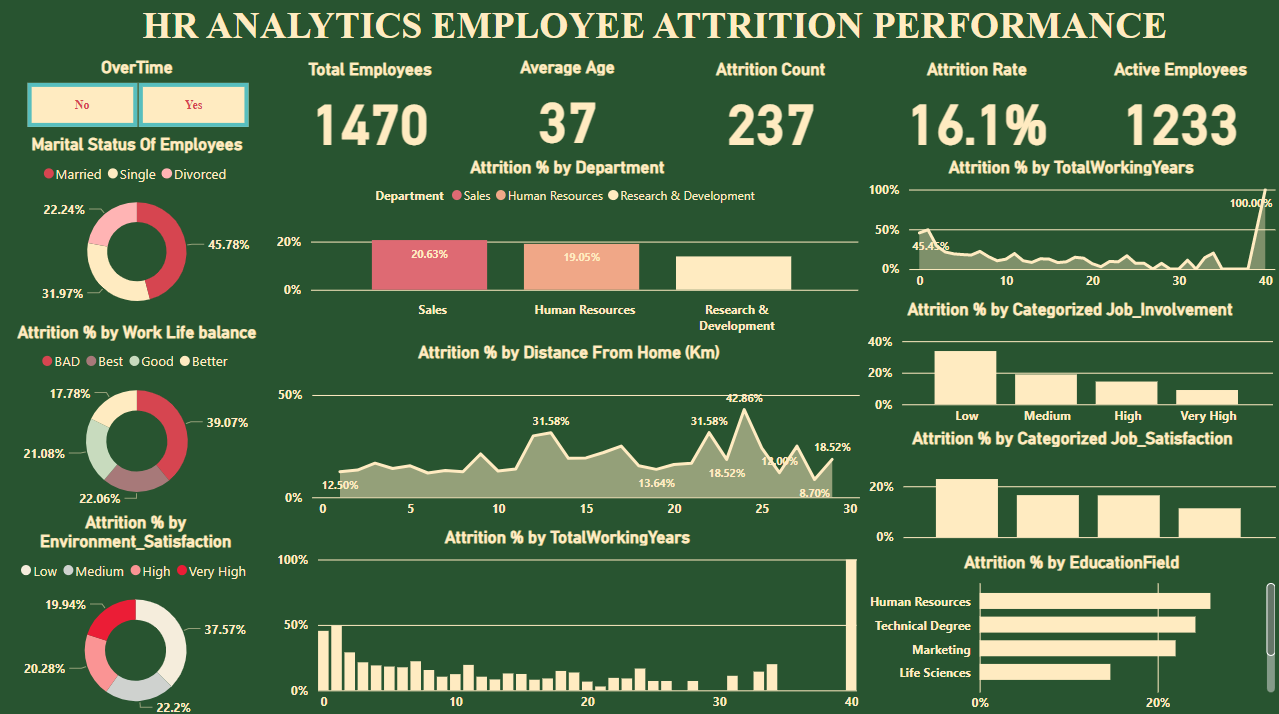

Layout of this report page (visuals, bound fields, positions):
{"tool":"powerbi","page":{"name":"Employee Attrition Dashboard","canvas":[1280,720],"ordinal":0},"visuals":[{"type":"card","title":"Total Employees","fields":{"Values":["Employee Data 2018 - 2019.Total Employees HR"]},"box":[271.2,60,197.5,98.8],"z":0},{"type":"card","title":"Average Age","fields":{"Values":["Avg(Employee Data 2018 - 2019.Age)"]},"box":[467.5,57.5,200,100],"z":1000},{"type":"card","title":"Attrition Rate","fields":{"Values":["Employee Data 2018 - 2019.Attrition %"]},"box":[872.5,60,208.8,97.5],"z":2000},{"type":"card","title":"Attrition Count","fields":{"Values":["Sum(Employee Data 2018 - 2019.Attrition Count)"]},"box":[667.5,60,206.2,97.5],"z":3000},{"type":"card","title":"Active Employees","fields":{"Values":["Employee Data 2018 - 2019.Measure"]},"box":[1081.2,60,198.8,97.5],"z":4000},{"type":"clusteredColumnChart","fields":{"Y":["Employee Data 2018 - 2019.Attrition %"],"Category":["Employee Data 2018 - 2019.TotalWorkingYears"]},"box":[271.4,527,592.2,194.2],"z":5000},{"type":"areaChart","fields":{"Category":["Employee Data 2018 - 2019.Distance From Home (Km)"],"Y":["Employee Data 2018 - 2019.Attrition %"]},"box":[272.6,342.5,592.2,185.7],"z":6000},{"type":"donutChart","title":"Attrition % by Work Life balance","fields":{"Category":["Employee Data 2018 - 2019.Categorized Work_Life_Balance"],"Y":["Employee Data 2018 - 2019.Attrition %"]},"box":[1.2,322,271.4,190.6],"z":7000},{"type":"stackedAreaChart","fields":{"Category":["Employee Data 2018 - 2019.TotalWorkingYears"],"Y":["Employee Data 2018 - 2019.Attrition %"]},"box":[862.5,157.5,417.5,142.5],"z":8000},{"type":"donutChart","title":"Marital Status Of Employees","fields":{"Category":["Employee Data 2018 - 2019.MaritalStatus"],"Y":["CountNonNull(Employee Data 2018 - 2019.MaritalStatus)"]},"box":[1.2,135.1,271.4,186.9],"z":9000},{"type":"donutChart","title":"Attrition % by Environment_Satisfaction","fields":{"Y":["Employee Data 2018 - 2019.Attrition %"],"Category":["Employee Data 2018 - 2019.Categorized Environment_Satisfaction"]},"box":[0,512.6,271.4,209.8],"z":10000},{"type":"columnChart","fields":{"Category":["Employee Data 2018 - 2019.Categorized Job_Satisfaction"],"Y":["Employee Data 2018 - 2019.Attrition %"]},"box":[863.5,429.3,417.3,123],"z":11000},{"type":"clusteredColumnChart","fields":{"Category":["Employee Data 2018 - 2019.Categorized Job_Involvement"],"Y":["Employee Data 2018 - 2019.Attrition %"]},"box":[862.5,300,415,135],"z":12000},{"type":"columnChart","title":"Attrition % by Department ","fields":{"Series":["Employee Data 2018 - 2019.Department"],"Y":["Employee Data 2018 - 2019.Attrition %"],"Category":["Employee Data 2018 - 2019.Department"]},"box":[271.4,158,592.2,184.5],"z":13000},{"type":"clusteredBarChart","fields":{"Y":["Employee Data 2018 - 2019.Attrition %"],"Category":["Employee Data 2018 - 2019.EducationField"]},"box":[863.5,552.4,416.1,170.1],"z":14000},{"type":"slicer","title":"OverTime","fields":{"Values":["Employee Data 2018 - 2019.Over Time"]},"box":[1.2,57.9,271.4,77.2],"z":15000},{"type":"textbox","box":[137.5,0,1142.5,60],"z":16000}]}

Visuals, with their boxes in screenshot pixels (x1, y1, x2, y2), scaled from the page's 1280x720 canvas onto the 1279x714 screenshot:
"Total Employees" card: box(271, 60, 468, 157)
"Average Age" card: box(467, 57, 667, 156)
"Attrition Rate" card: box(872, 60, 1080, 156)
"Attrition Count" card: box(667, 60, 873, 156)
"Active Employees" card: box(1080, 60, 1278, 156)
clusteredColumnChart - Employee Data 2018 - 2019.Attrition % x Employee Data 2018 - 2019.TotalWorkingYears: box(271, 523, 863, 713)
areaChart - Employee Data 2018 - 2019.Distance From Home (Km) x Employee Data 2018 - 2019.Attrition %: box(272, 340, 864, 524)
"Attrition % by Work Life balance" donutChart: box(1, 319, 272, 508)
stackedAreaChart - Employee Data 2018 - 2019.TotalWorkingYears x Employee Data 2018 - 2019.Attrition %: box(862, 156, 1278, 298)
"Marital Status Of Employees" donutChart: box(1, 134, 272, 319)
"Attrition % by Environment_Satisfaction" donutChart: box(0, 508, 271, 713)
columnChart - Employee Data 2018 - 2019.Categorized Job_Satisfaction x Employee Data 2018 - 2019.Attrition %: box(863, 426, 1278, 548)
clusteredColumnChart - Employee Data 2018 - 2019.Categorized Job_Involvement x Employee Data 2018 - 2019.Attrition %: box(862, 298, 1277, 431)
"Attrition % by Department " columnChart: box(271, 157, 863, 340)
clusteredBarChart - Employee Data 2018 - 2019.Attrition % x Employee Data 2018 - 2019.EducationField: box(863, 548, 1278, 713)
"OverTime" slicer: box(1, 57, 272, 134)
textbox: box(137, 0, 1278, 60)
